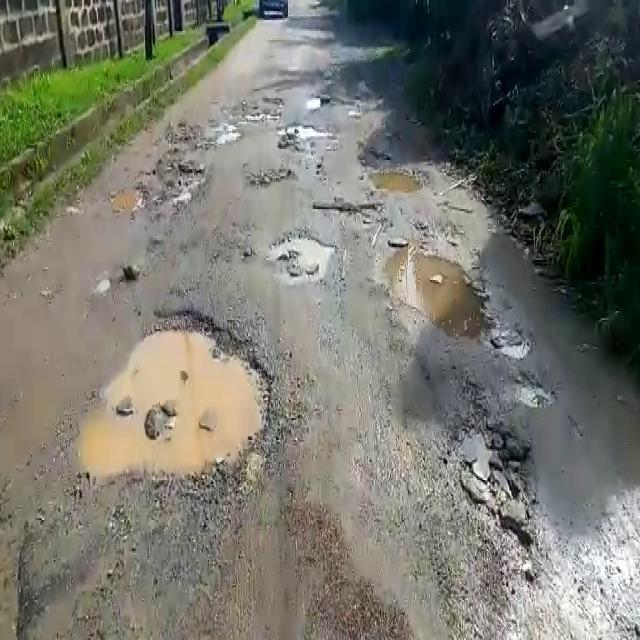pothole: (74, 306, 283, 487), (374, 226, 497, 345), (134, 153, 207, 208), (272, 232, 332, 281), (369, 164, 435, 199), (323, 200, 393, 230), (508, 371, 553, 411), (243, 165, 300, 190), (107, 184, 145, 219), (279, 120, 337, 140)
